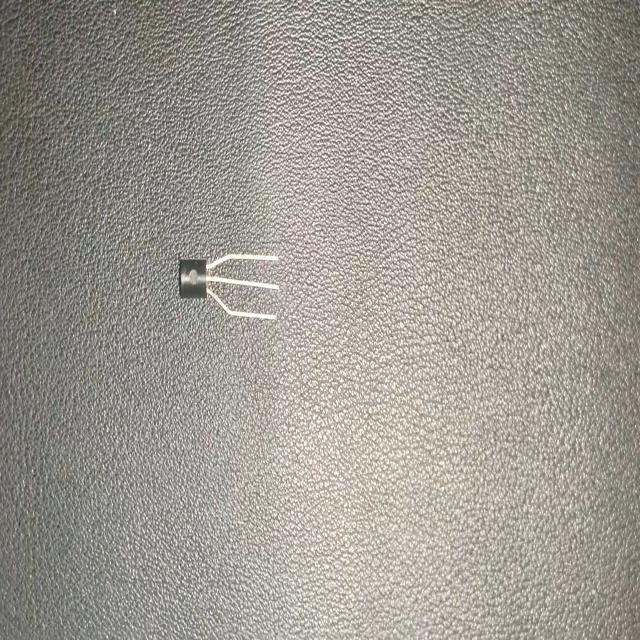BJT: (175, 246, 282, 328)
